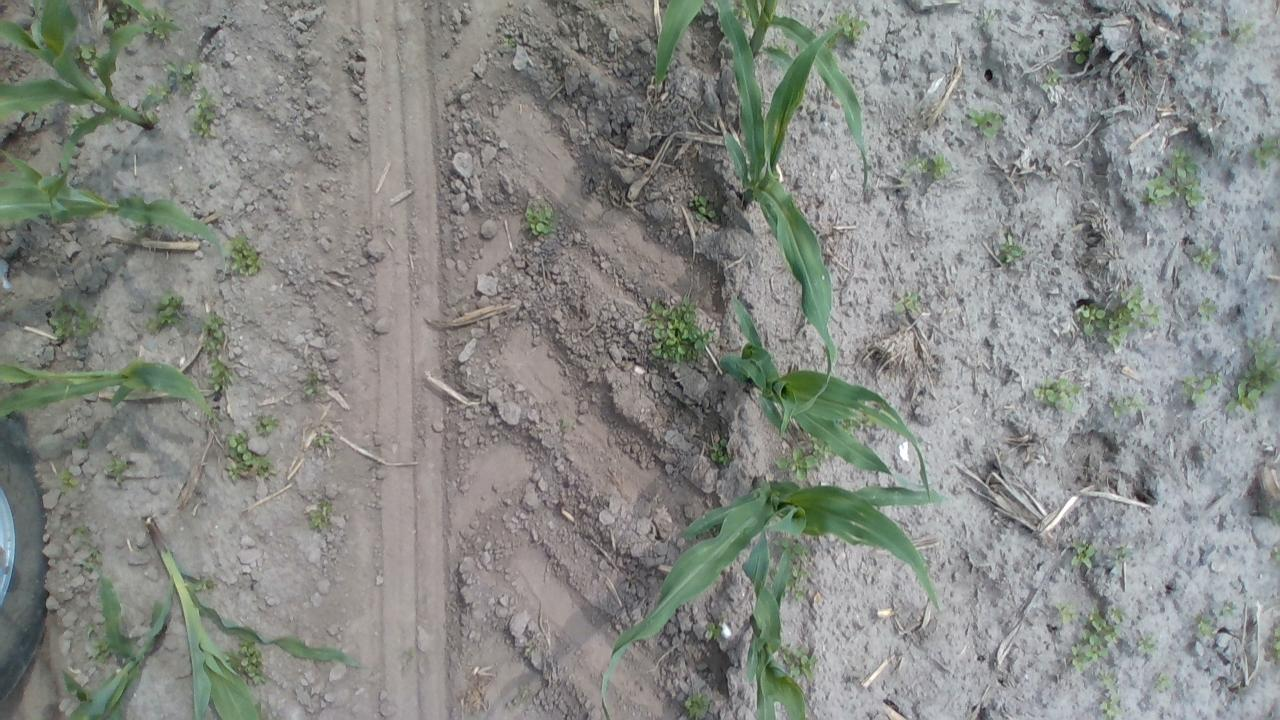Maize: (596, 476, 954, 720), (710, 0, 866, 420), (719, 294, 933, 504), (655, 0, 874, 198), (0, 0, 186, 170), (0, 152, 229, 270), (56, 568, 176, 720), (0, 358, 214, 424), (741, 519, 811, 720)
Weeds: (1070, 282, 1160, 348), (638, 298, 712, 364), (1138, 147, 1206, 211), (1067, 603, 1122, 672), (1228, 341, 1278, 411), (106, 3, 174, 42), (202, 312, 234, 394), (146, 59, 198, 109), (773, 439, 834, 481), (226, 432, 276, 483), (223, 634, 268, 686), (776, 538, 812, 603), (48, 300, 99, 342), (1032, 377, 1082, 412), (772, 640, 815, 680), (901, 152, 953, 183), (826, 9, 869, 45), (224, 238, 262, 278), (149, 293, 185, 335), (522, 204, 560, 241), (190, 84, 214, 140), (1196, 608, 1238, 640), (1178, 373, 1222, 402), (73, 524, 99, 570), (84, 625, 113, 665), (990, 234, 1026, 266), (961, 109, 1004, 133), (1099, 677, 1122, 720), (1253, 133, 1280, 169), (70, 41, 102, 67), (1070, 30, 1092, 66), (686, 194, 715, 221), (1068, 544, 1098, 570), (709, 437, 732, 470), (684, 692, 711, 720), (304, 504, 332, 531), (101, 458, 128, 485), (1106, 548, 1132, 576), (1191, 250, 1218, 272), (892, 296, 923, 314), (1132, 634, 1156, 656), (1106, 395, 1136, 412), (702, 619, 724, 641), (1039, 66, 1059, 90), (298, 371, 318, 395), (1267, 626, 1280, 662), (1060, 601, 1078, 627), (58, 469, 76, 494), (1231, 25, 1255, 42), (253, 417, 280, 432), (66, 112, 86, 132), (1195, 300, 1217, 318), (1186, 31, 1214, 45), (1156, 671, 1170, 697), (314, 432, 332, 450), (1268, 507, 1280, 526)
